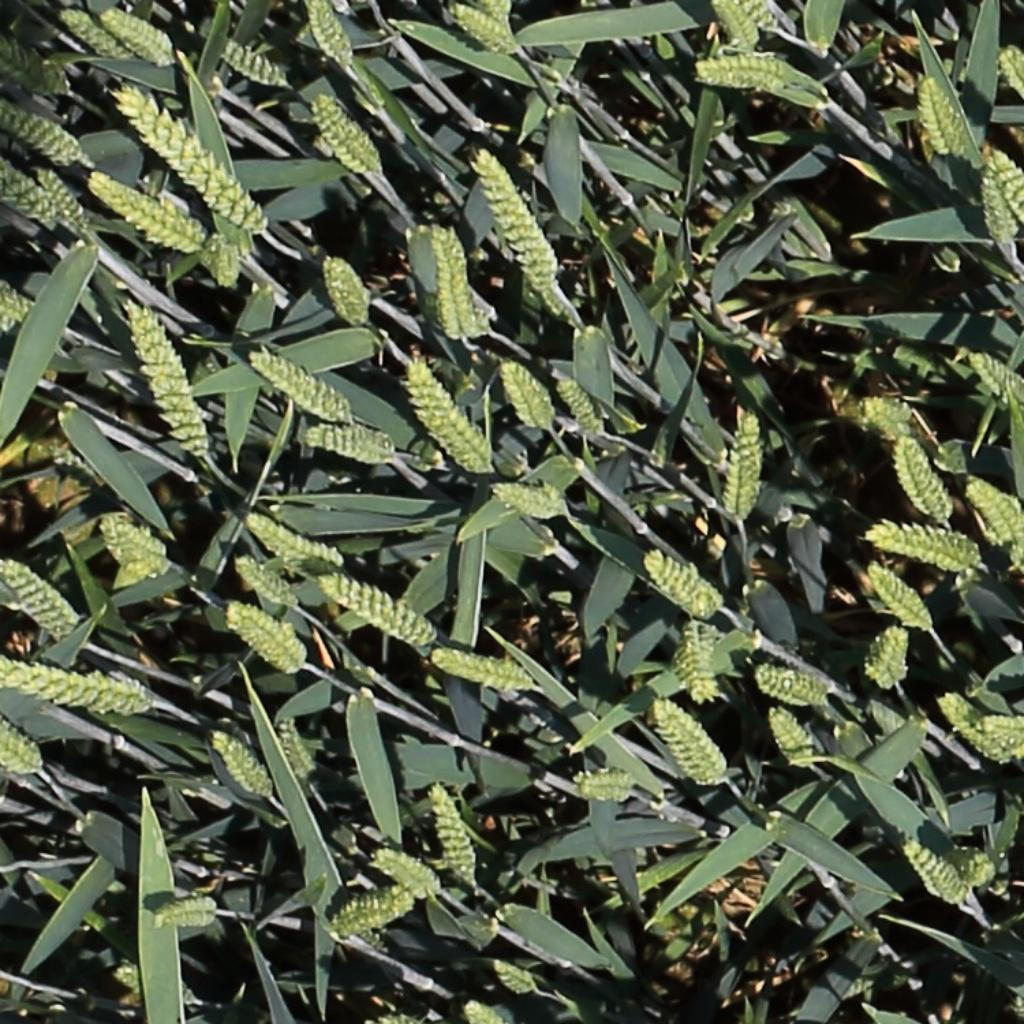0-0: (111, 87, 272, 240), (120, 294, 214, 464), (473, 146, 562, 296), (404, 353, 498, 477), (89, 166, 209, 257), (1, 652, 160, 716), (316, 573, 441, 645), (248, 348, 356, 426), (648, 694, 731, 791), (716, 407, 777, 524), (1, 24, 80, 113), (867, 519, 985, 576), (423, 780, 481, 894), (0, 557, 85, 634), (937, 691, 1018, 769), (241, 512, 345, 572), (321, 92, 387, 185), (310, 103, 380, 189), (891, 430, 953, 527), (0, 98, 91, 164), (643, 551, 731, 618), (223, 610, 311, 675), (864, 559, 936, 637), (202, 729, 276, 801), (431, 222, 473, 346), (894, 838, 967, 909), (693, 47, 797, 95), (428, 651, 541, 695), (502, 361, 562, 442), (30, 158, 91, 237), (917, 72, 967, 166), (963, 475, 1024, 551), (675, 619, 727, 708), (327, 886, 416, 937), (211, 38, 296, 91), (550, 370, 610, 443), (318, 247, 370, 330), (300, 425, 398, 469), (99, 521, 175, 577), (99, 8, 172, 64), (0, 152, 55, 225), (230, 555, 301, 611), (763, 703, 818, 774), (301, 0, 354, 73), (752, 667, 835, 713), (368, 851, 447, 899), (58, 6, 126, 61), (446, 2, 516, 55), (149, 892, 223, 939), (977, 180, 1019, 255), (968, 349, 1024, 405), (986, 146, 1024, 228), (0, 712, 46, 778), (865, 624, 908, 694), (274, 713, 318, 781), (490, 483, 570, 519), (708, 0, 759, 55), (572, 768, 638, 807), (988, 36, 1023, 105), (213, 231, 255, 288), (978, 713, 1024, 764), (0, 279, 41, 335), (943, 845, 999, 884), (860, 397, 906, 442), (488, 959, 542, 997), (467, 283, 498, 338), (737, 0, 780, 32), (458, 999, 511, 1023), (1003, 543, 1024, 592), (481, 0, 513, 30)
